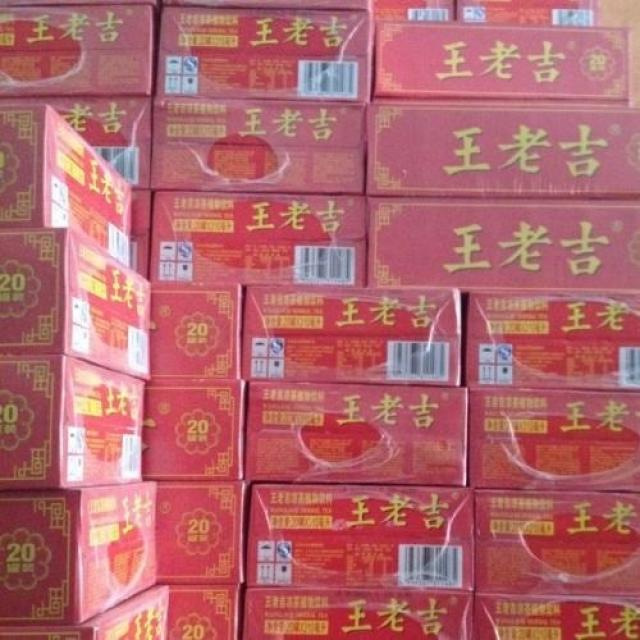box: (365, 102, 640, 201), (365, 197, 640, 293), (243, 480, 475, 593), (244, 380, 468, 488), (0, 228, 151, 381), (0, 479, 157, 626), (374, 20, 630, 109), (241, 285, 462, 387), (0, 101, 132, 268), (151, 96, 367, 196), (148, 191, 366, 288), (155, 8, 372, 104), (0, 356, 147, 492), (461, 289, 640, 393), (467, 387, 640, 494), (472, 486, 640, 596), (0, 95, 151, 188), (0, 5, 152, 97), (242, 586, 474, 640), (138, 480, 243, 584), (141, 380, 246, 480), (0, 585, 170, 639), (150, 280, 242, 379), (472, 591, 639, 639), (166, 584, 243, 640), (454, 0, 599, 28), (164, 0, 372, 14), (372, 0, 456, 24), (132, 188, 151, 280)
